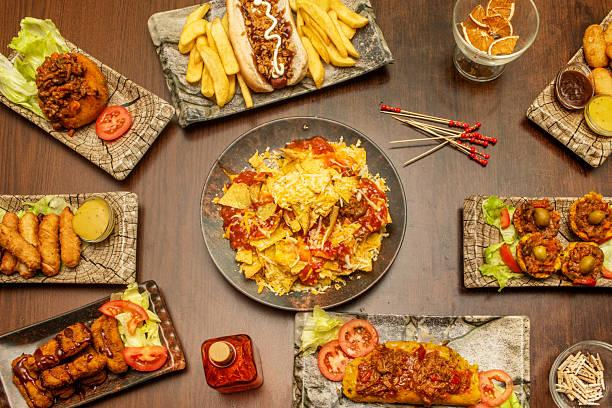Braised Crucian Carp: (198, 117, 402, 309), (149, 0, 388, 128), (3, 25, 175, 179), (0, 280, 190, 407), (297, 310, 524, 405), (461, 192, 609, 291), (525, 3, 612, 169), (3, 189, 142, 285)
